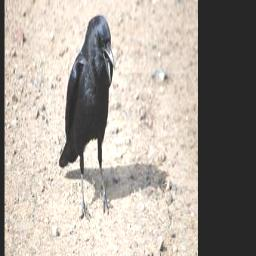Crow: (60, 14, 116, 219)
